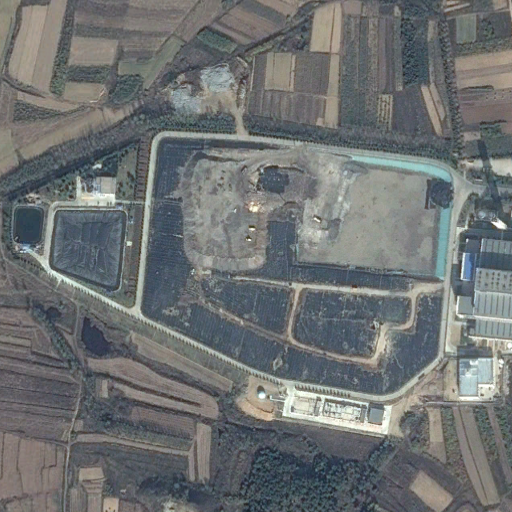lf: (139, 136, 449, 406)
